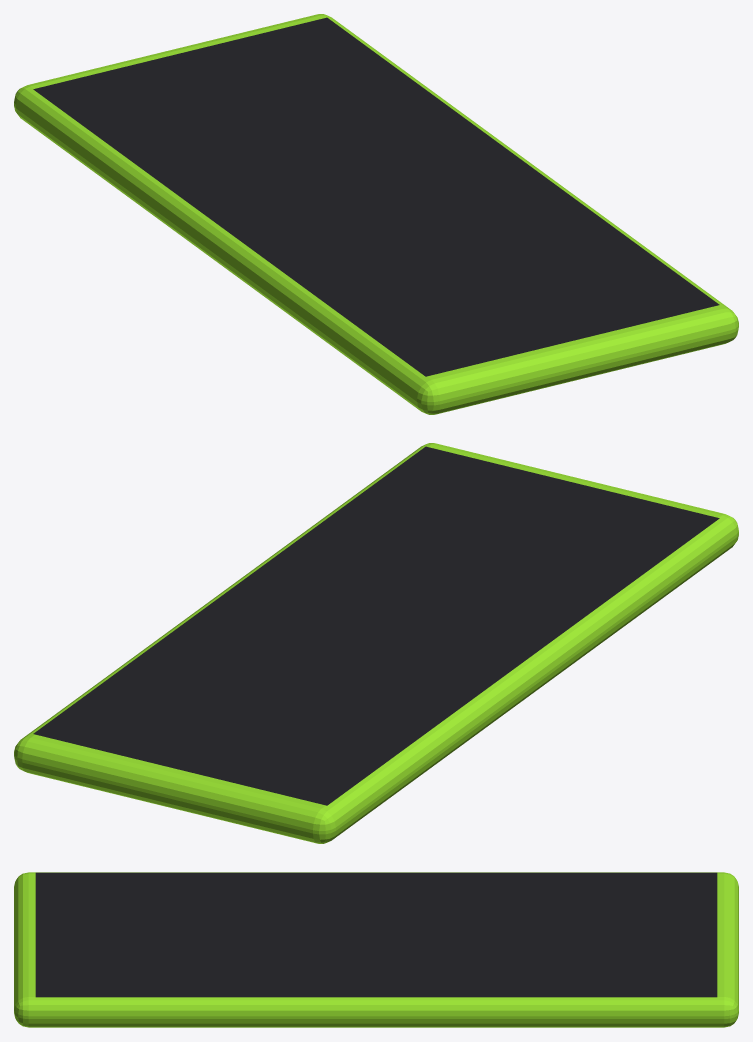
Rendered from xiaomi-redmi-note-model-79-budget-2023.glb.
3 views of the same model, one above another, from view 1: azimuth 30°, elevation 25°; view 2: azimuth 150°, elevation 25°; view 3: azimuth 270°, elevation 25° (orthographic). The views are drawn at different scales.
Visible parts, largest first — view 1: Phone_Screen, Phone_Body; view 2: Phone_Screen, Phone_Body; view 3: Phone_Screen, Phone_Body.
Boxes of the visible parts, x1,y1,x2,y2 form: Phone_Screen: (33,17,719,376); Phone_Body: (14,14,738,414); Phone_Screen: (33,446,719,805); Phone_Body: (14,443,738,843); Phone_Screen: (35,872,717,997); Phone_Body: (14,872,738,1027).
Bounding box in the file's own units: 0.0733 × 0.0075 × 0.1659.
